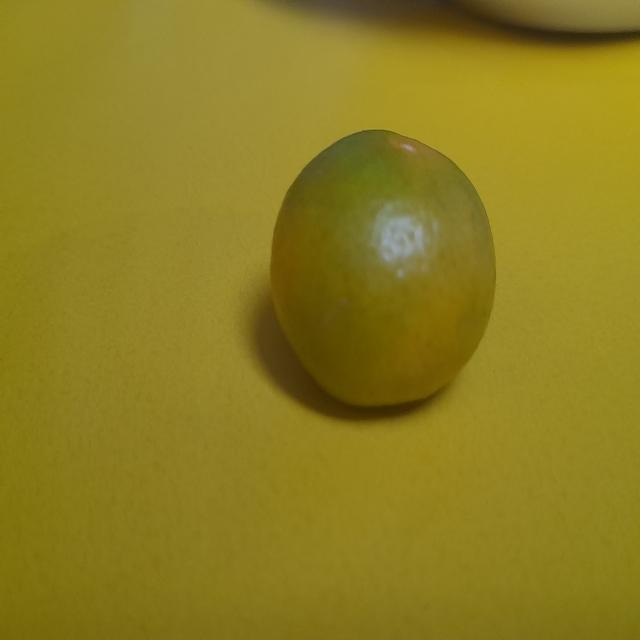greening: (260, 113, 502, 425)
